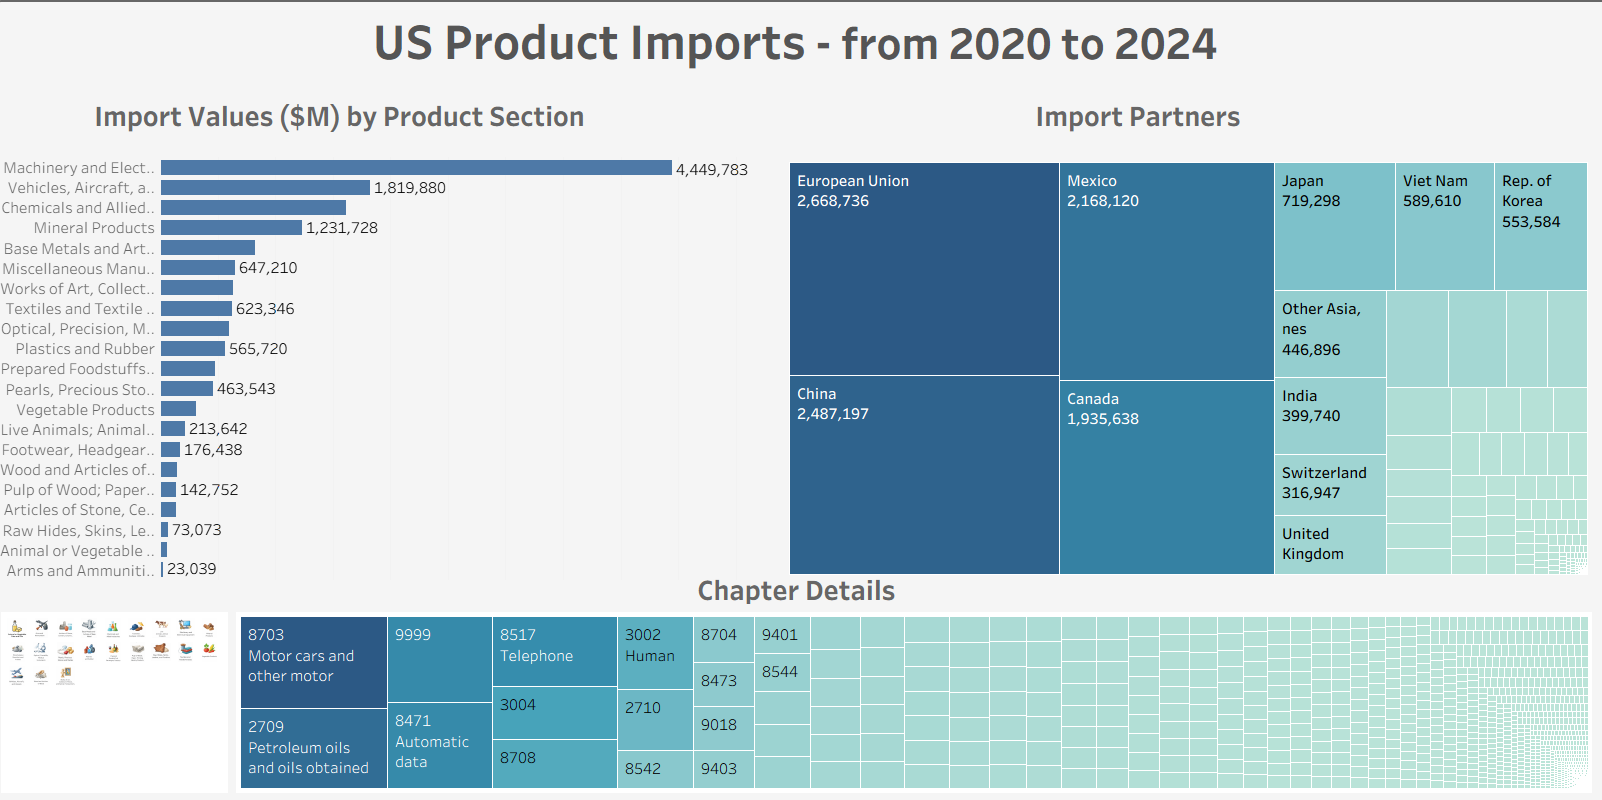

This screenshot's page, from the dashboard's own definition file:
{"tool":"tableau","page":{"name":"november 1","canvas":[650,860],"ordinal":11},"visuals":[{"type":"image","param":"C:/Users/rcrds/Desktop/Ironhack/Final Project/Images/96a6c48b8b4f832c4764ea4260d","box":[8,8.1,634,843.7]},{"type":"image","param":"C:/Users/rcrds/Desktop/Ironhack/Final Project/Images/Icons/Vehicles.png","box":[428,566.9,216,286]}]}

Visuals, with their boxes on the page's 650x860 design canvas (x1, y1, x2, y2). These are canvas units, not pixel positions in the 1602x800 screenshot, which may show the page scaled, cropped or inside an application window:
image: <region>8, 8, 642, 852</region>
image: <region>428, 567, 644, 853</region>
